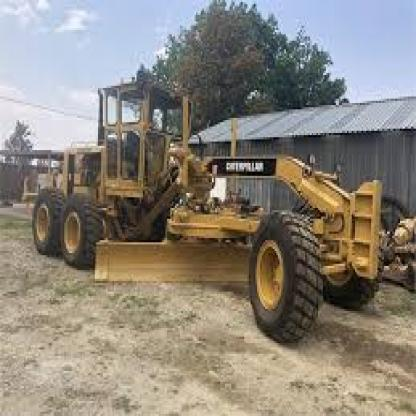bull_dozer/loader/grader: (18, 47, 394, 328)
